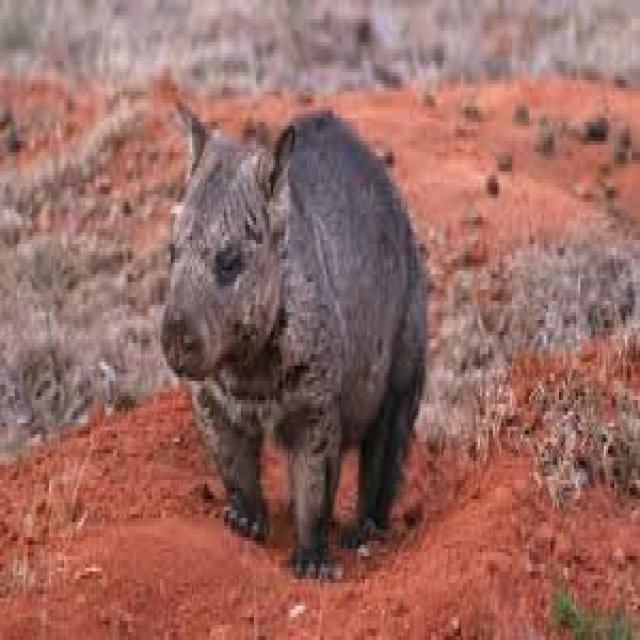Wombat: (150, 89, 436, 572)
